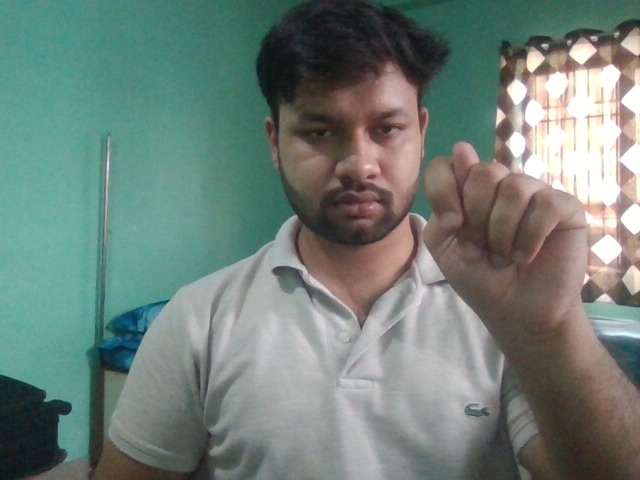Bathroom: (419, 141, 591, 330)
